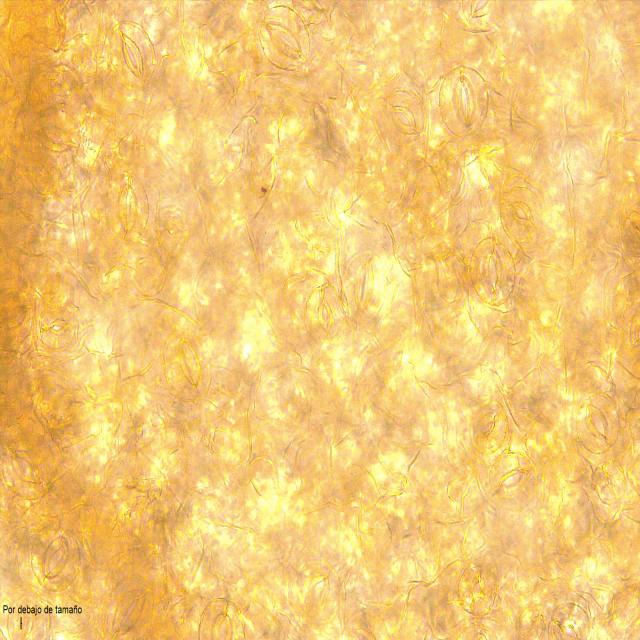Stomata: (1, 429, 56, 502), (26, 105, 83, 173), (438, 64, 490, 138), (100, 573, 155, 640), (163, 328, 212, 403), (258, 4, 312, 72), (468, 236, 518, 307), (341, 248, 387, 325), (107, 21, 159, 89), (29, 526, 81, 592), (104, 172, 150, 246), (488, 450, 538, 513), (294, 561, 342, 625), (575, 393, 620, 455), (498, 186, 545, 242), (303, 283, 346, 343), (384, 88, 427, 147), (466, 399, 510, 455), (457, 562, 498, 618), (196, 597, 248, 640), (38, 303, 76, 353), (547, 602, 591, 640), (593, 459, 626, 506), (461, 0, 506, 31)
